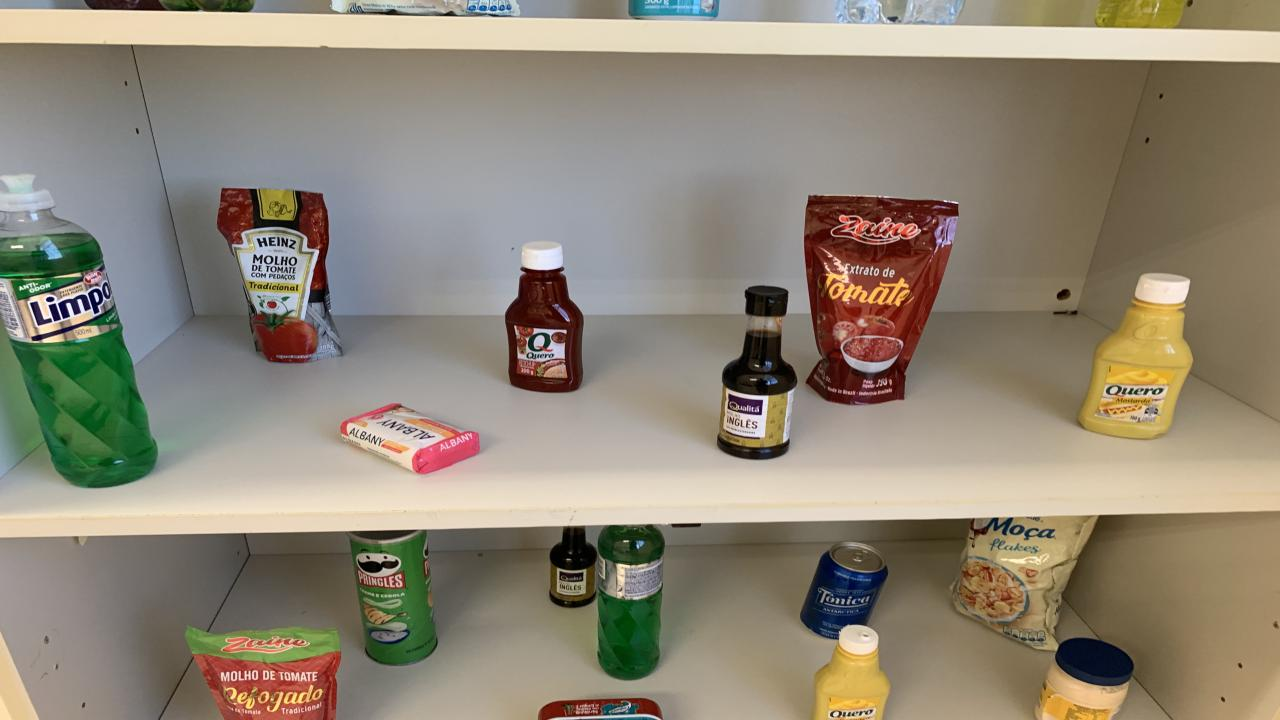Detergent-Cleanup_Items: (0, 176, 158, 488), (598, 525, 665, 681), (1095, 0, 1188, 28)
English_Sauce-Pantry_Items: (718, 287, 798, 459), (550, 527, 598, 608)
Flakes-Snacks: (950, 516, 1098, 651), (330, 0, 520, 17)
Ketchup-Pantry_Items: (505, 242, 582, 392)
Mayonnaise-Pantry_Items: (1035, 638, 1135, 720)
Mustard-Pantry_Items: (1078, 272, 1192, 439), (812, 624, 890, 720)
Pringles-Snacks: (350, 531, 438, 666)
Soap-Cleanup_Items: (340, 403, 480, 474)
Tea-Drinks: (628, 0, 720, 21)
Tomato_Sauce-Pantry_Items: (805, 195, 958, 405), (218, 188, 342, 364), (185, 626, 340, 720)
Tonic-Drinks: (800, 542, 888, 639)
Tuna_Can-Pantry_Items: (538, 698, 662, 720)
